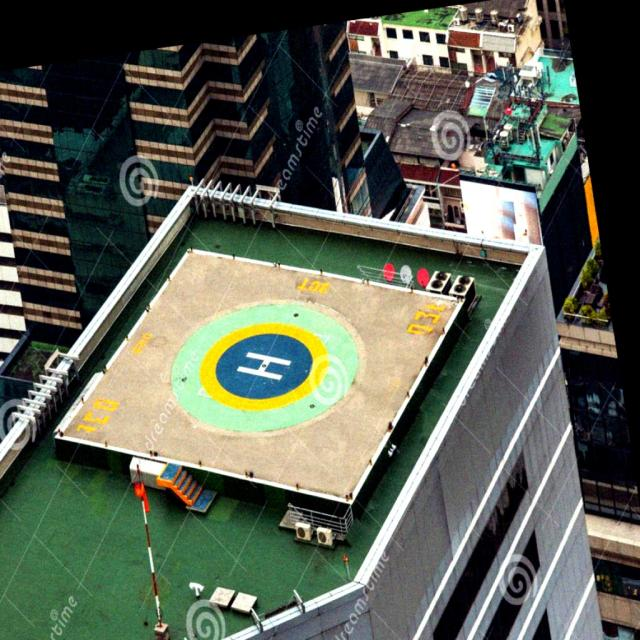helipad: (195, 319, 329, 413)
